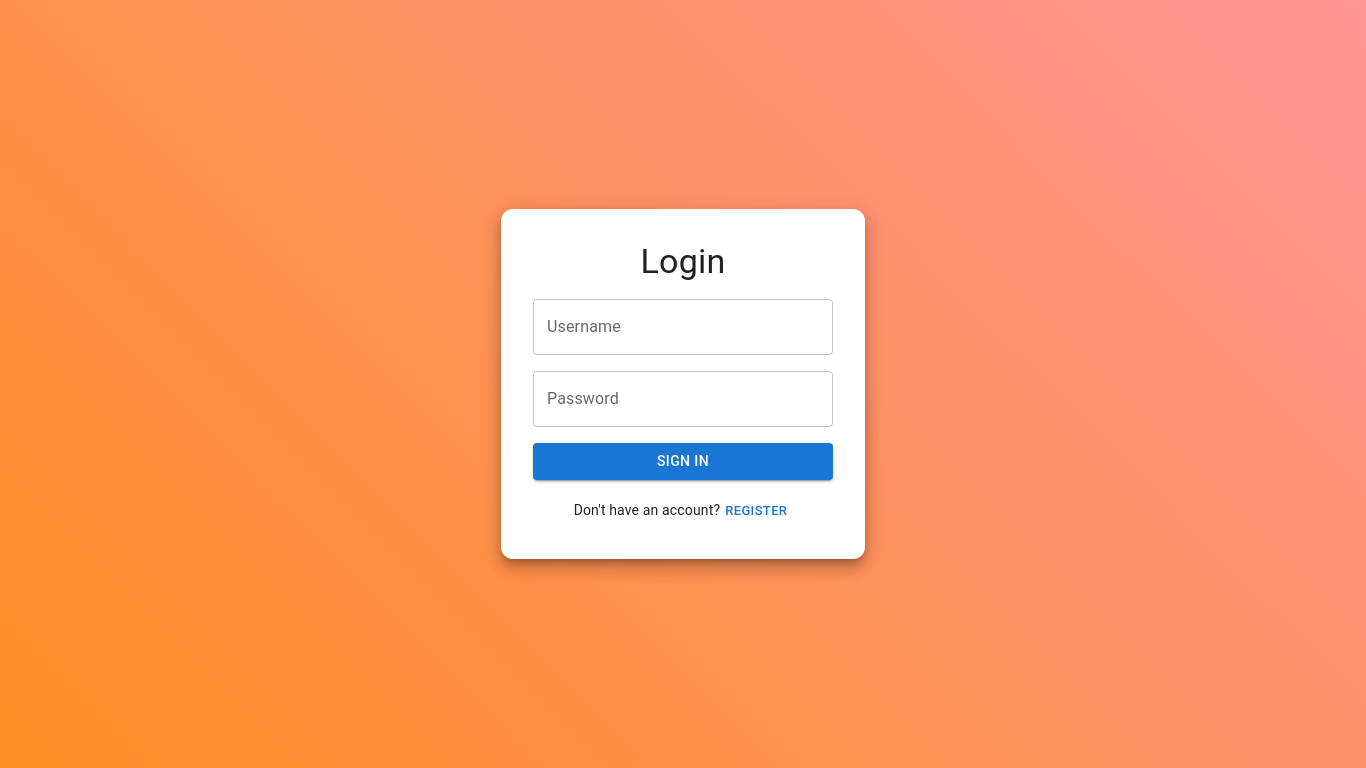
Scenario: Login Flow › handles login and displays the main screen
Note: Use more reliable selectors for Material-UI inputs
Step 1. Type "testuser" into the field labelled "Username" → (683, 327), box left=533, top=299, right=833, bottom=355
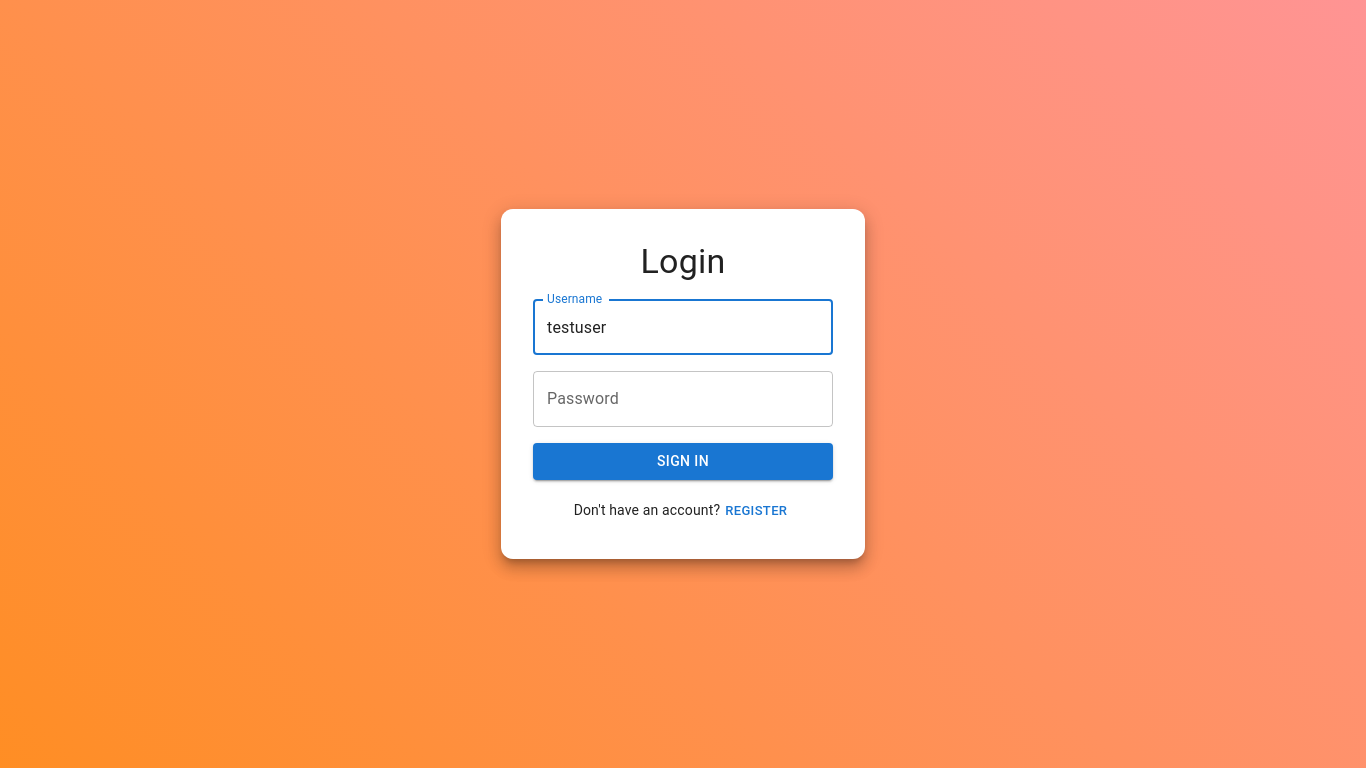
Step 2. Type "password123" into the password field labelled "Password" → (683, 399), box left=533, top=371, right=833, bottom=427
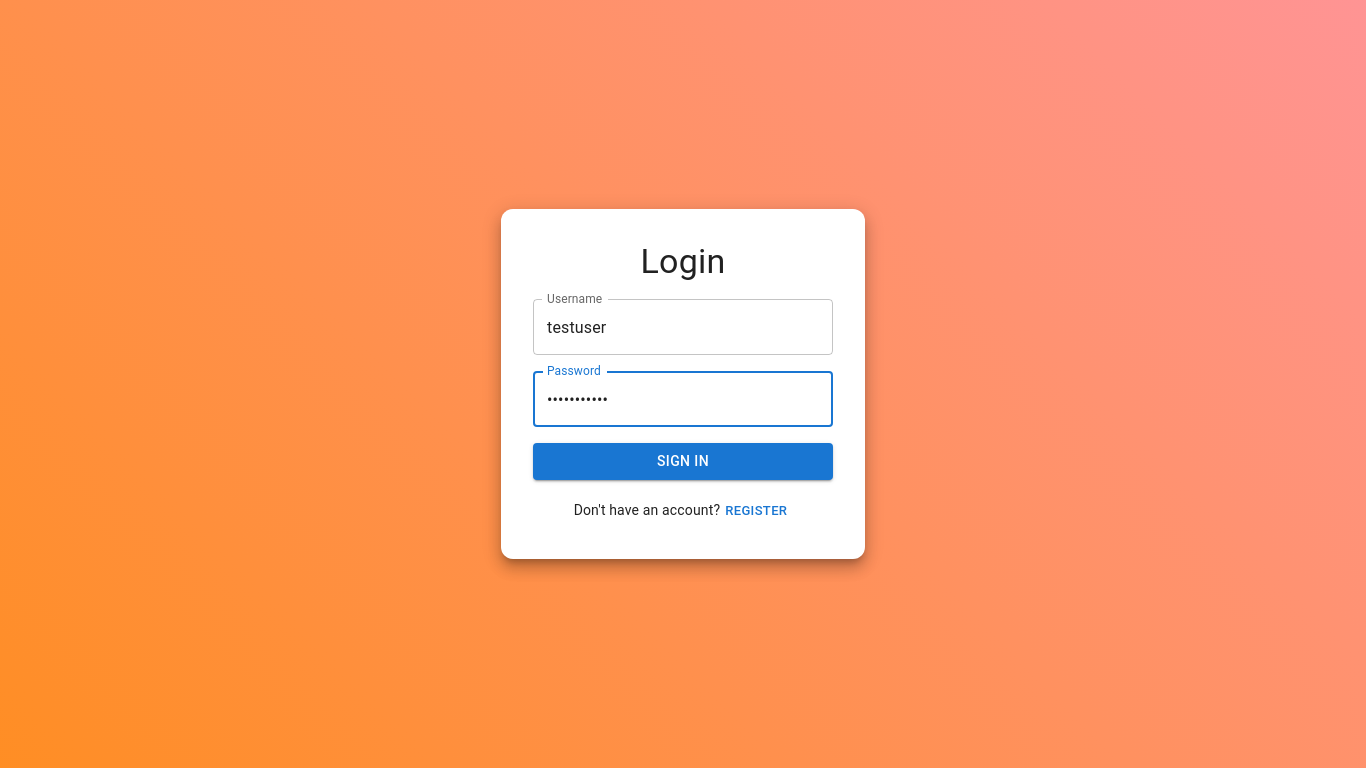
Step 3. Click the button "Sign In" → (683, 462), box left=533, top=443, right=833, bottom=480
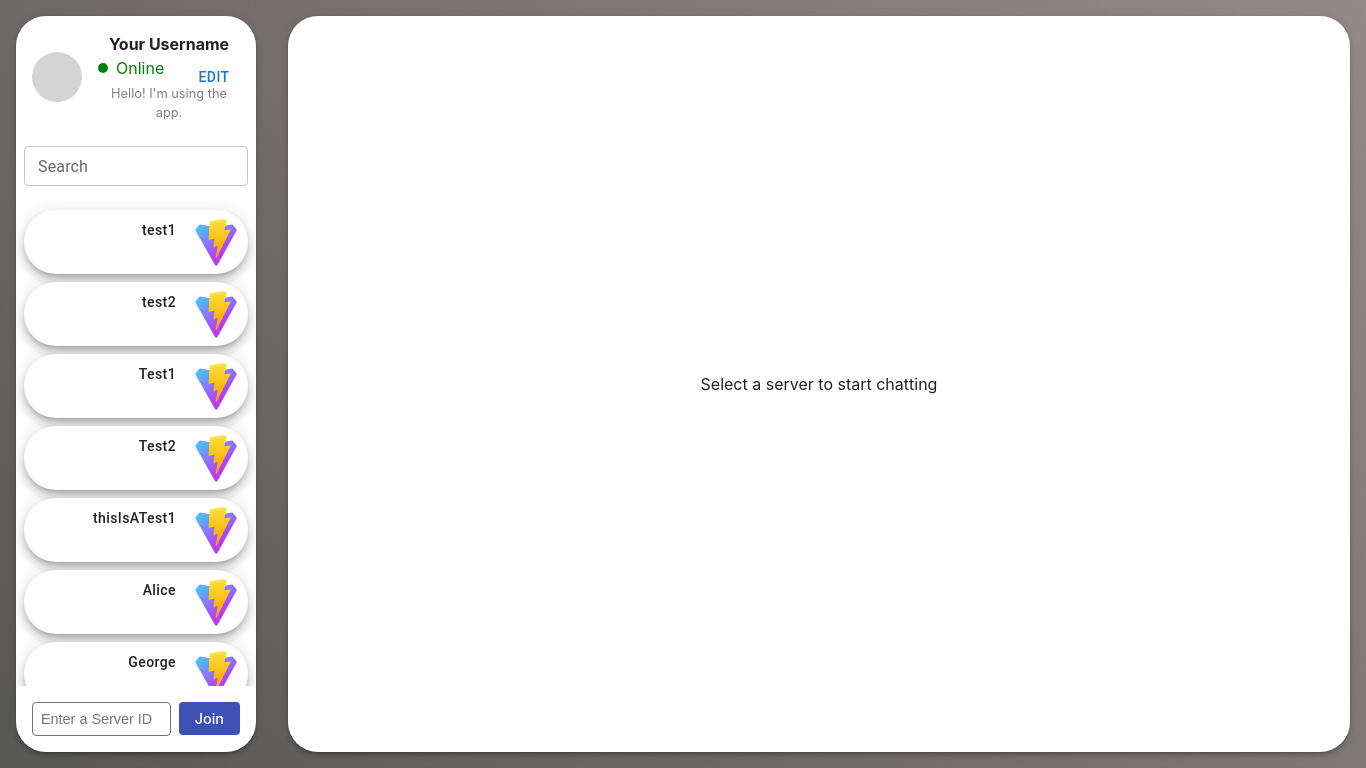
Expected: the element with class "ColorBox" is shown
